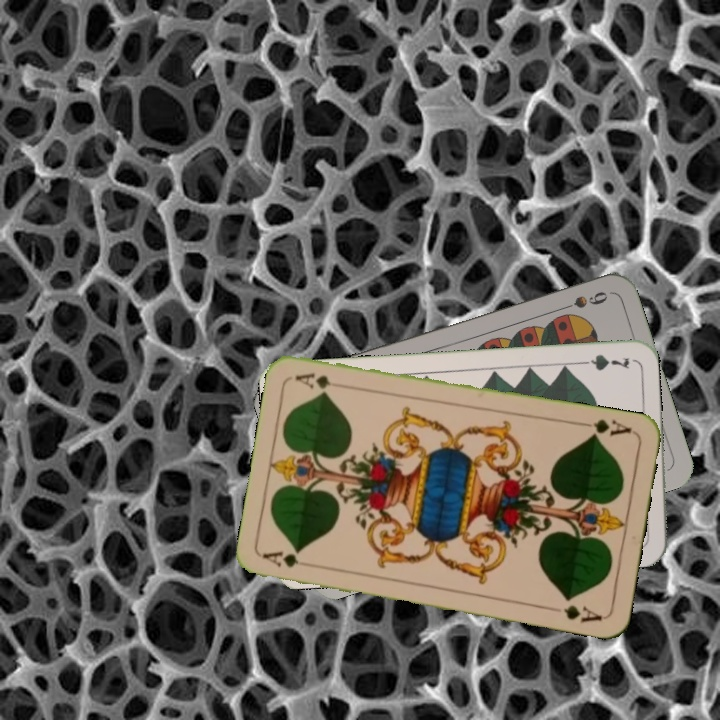G7: (573, 350, 632, 373)
GA: (576, 415, 636, 440), (260, 547, 301, 570)
S9: (553, 287, 610, 314)
